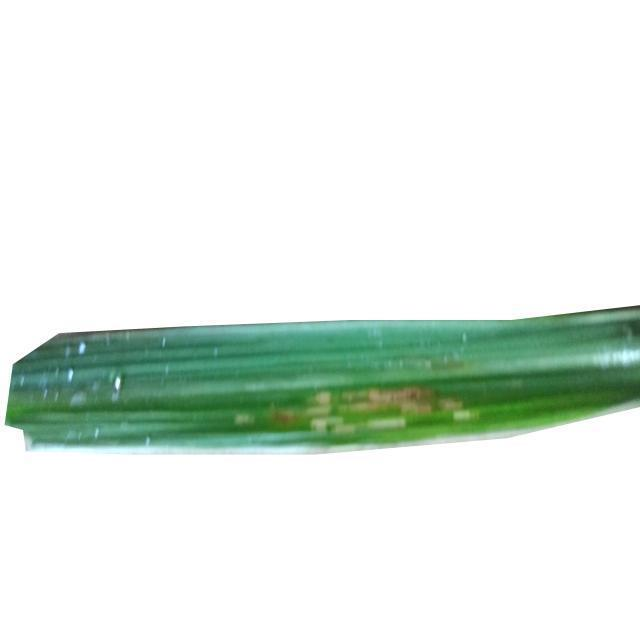Bacterial_Leaf_Blight: (360, 365, 458, 428), (267, 380, 301, 436)
